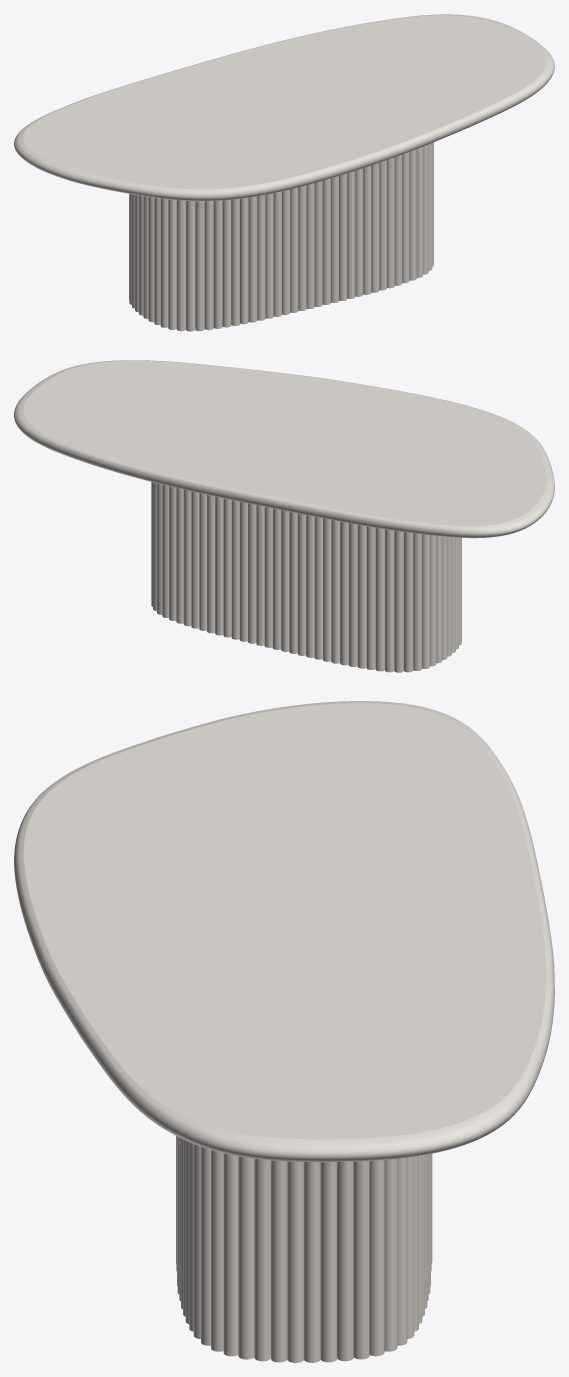
File: pearlwhite_leaf2_round_newtable.glb
The picture shows the model from 3 angles, top to bottom: view 1: azimuth 30°, elevation 25°; view 2: azimuth 150°, elevation 25°; view 3: azimuth 270°, elevation 25°; orthographic projection. The views are drawn at different scales.
Parts seen in each view (by area): view 1: round_leaf2, newtable; view 2: round_leaf2, newtable; view 3: round_leaf2, newtable.
Part boxes in pixels (<box>): round_leaf2: <box>14,14,554,201</box>; newtable: <box>129,142,433,331</box>; round_leaf2: <box>14,360,554,538</box>; newtable: <box>151,482,461,672</box>; round_leaf2: <box>14,701,554,1162</box>; newtable: <box>176,1136,432,1362</box>.
Bounding box in the file's own units: 7.5 × 2.52 × 3.8.
2 materials, 2 textured.
